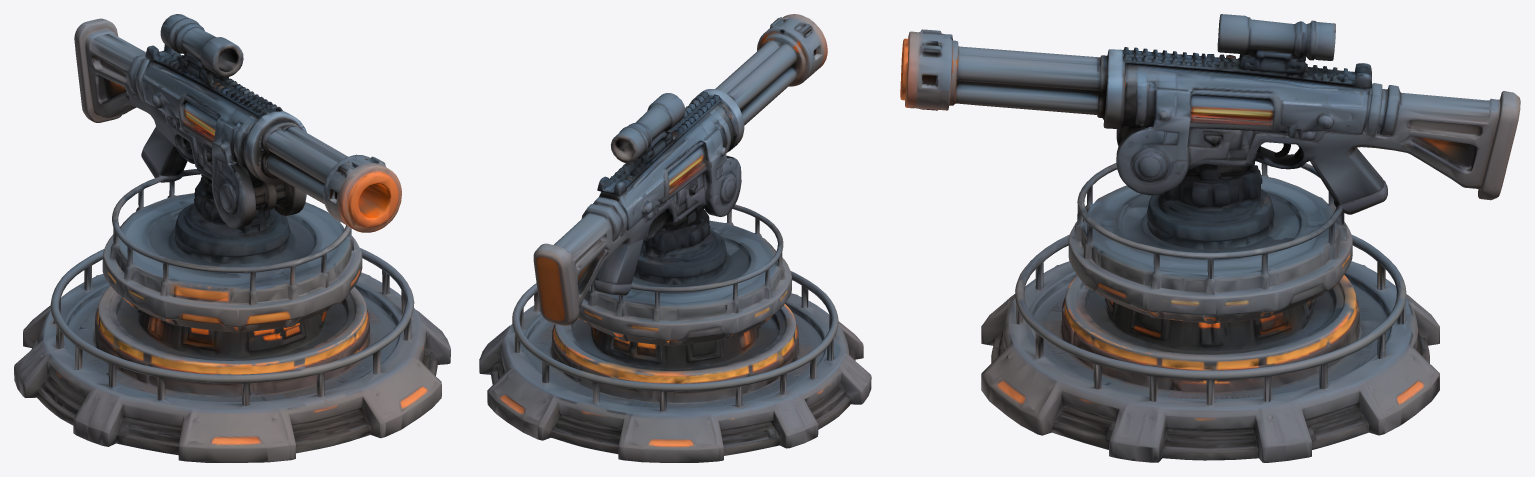
File: 机枪塔.glb
The picture shows the model from 3 angles, left to right: view 1: azimuth 30°, elevation 25°; view 2: azimuth 150°, elevation 25°; view 3: azimuth 270°, elevation 25°; orthographic projection. The views are drawn at different scales.
Parts seen in each view (by area): view 1: node_0; view 2: node_0; view 3: node_0.
Part boxes in pixels (x1,y1,x2,y2): node_0: (14, 14, 450, 462); node_0: (479, 14, 871, 462); node_0: (900, 14, 1520, 462).
Bounding box in the file's own units: 0.7911 × 0.6685 × 1.07.
1 material, 1 textured.
